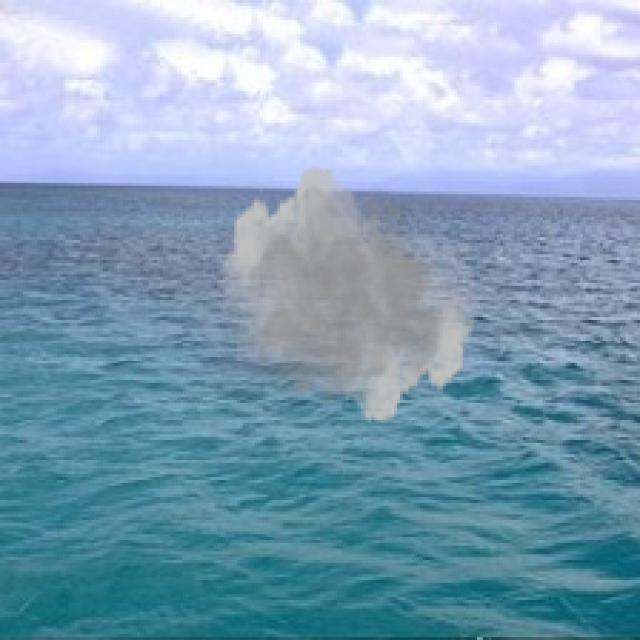Smoke: (217, 163, 480, 426)
